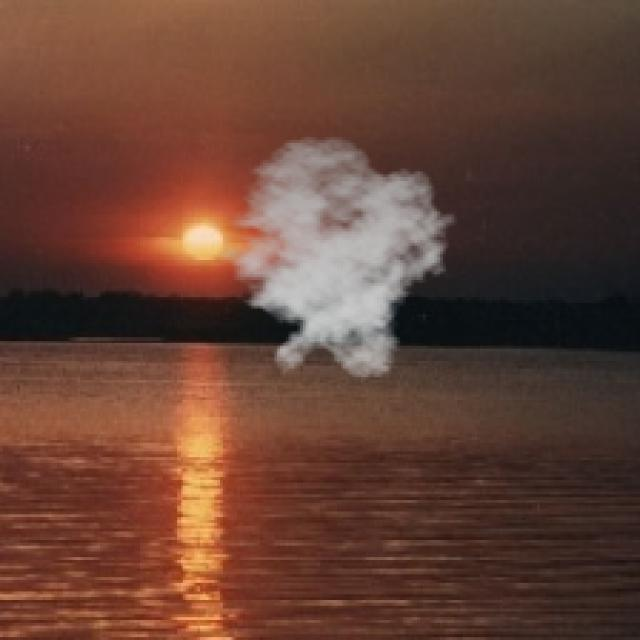Smoke: (202, 134, 458, 380)
